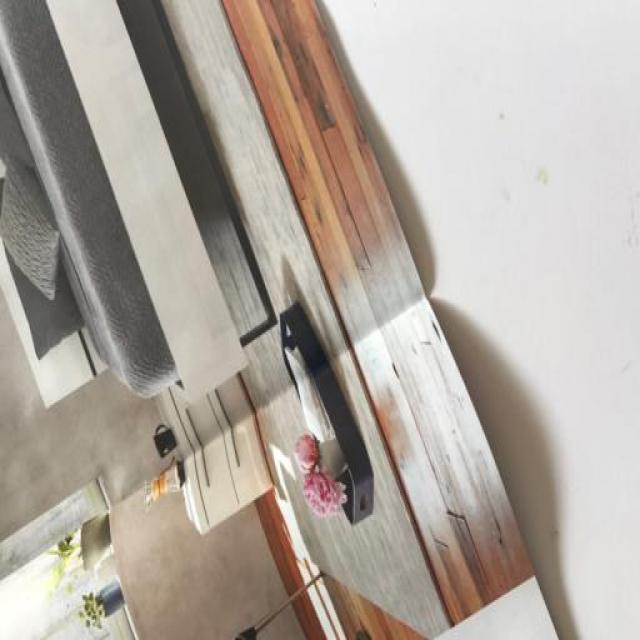paper: (1, 2, 573, 640)
